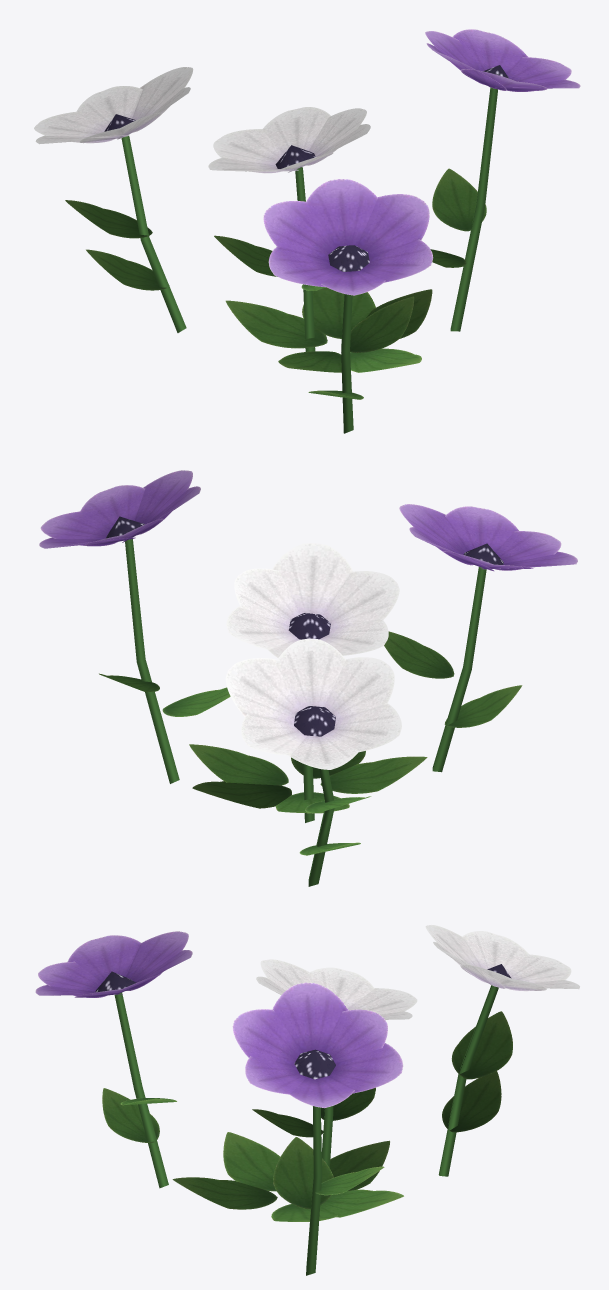
Rendered from flower-windflower.glb.
3 renders of one model, top to bottom at view 1: azimuth 30°, elevation 25°; view 2: azimuth 150°, elevation 25°; view 3: azimuth 270°, elevation 25°, orthographic. The views are drawn at different scales.
Visible parts, largest first — view 1: Flower; view 2: Flower; view 3: Flower.
Boxes of the visible parts, x1,y1,x2,y2 form: Flower: (34, 29, 580, 433); Flower: (39, 470, 577, 886); Flower: (35, 925, 579, 1275).
Bounding box in the file's own units: 0.7126 × 0.4505 × 0.8294.
Materials: 1 (1 with a texture image).
